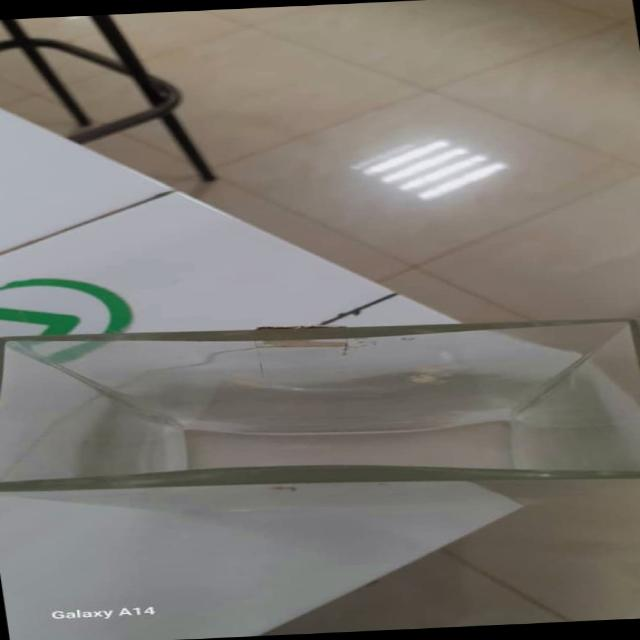TLC Tank: (0, 301, 640, 523)
